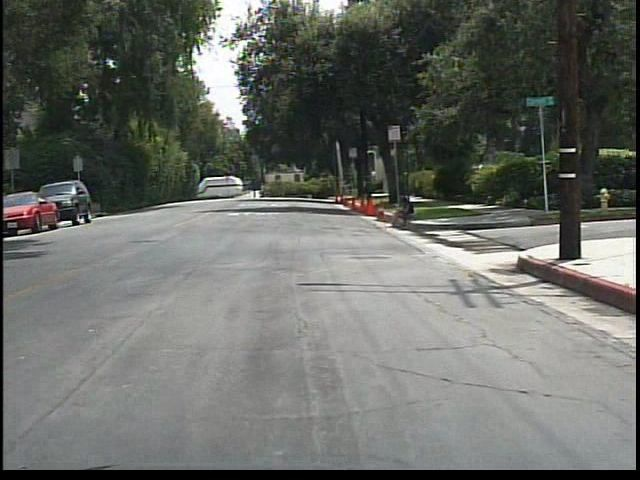person: (387, 191, 420, 234)
